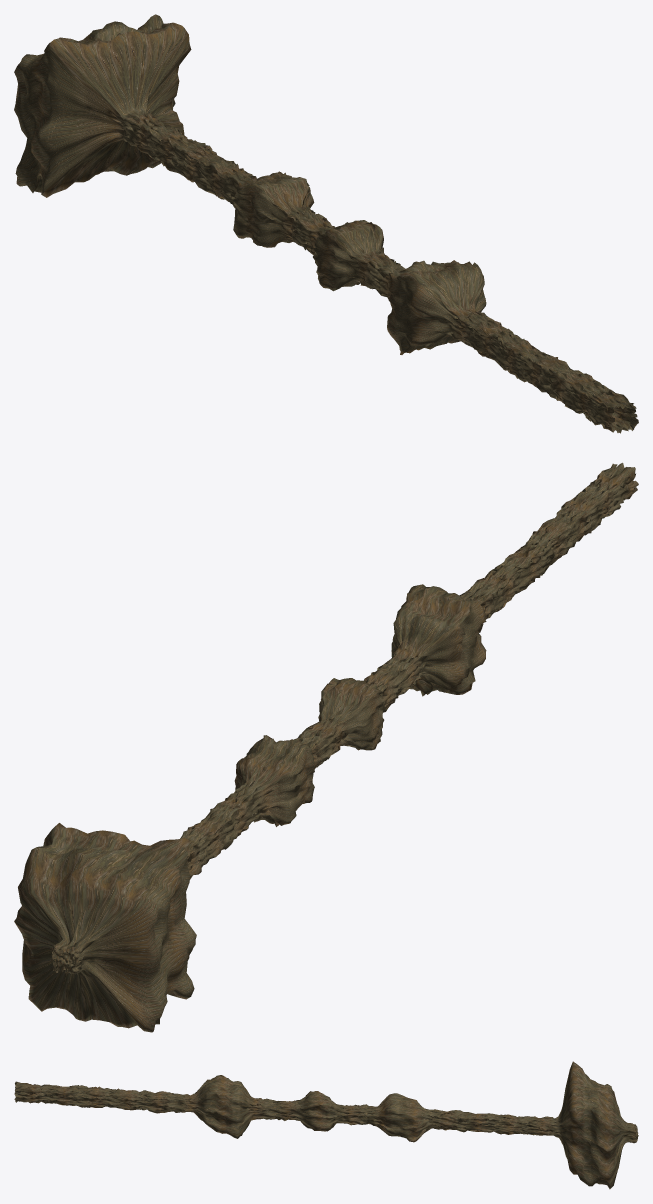
Rendered from cave.fbx.
The picture shows the model from 3 angles, top to bottom: view 1: azimuth 30°, elevation 25°; view 2: azimuth 150°, elevation 25°; view 3: azimuth 270°, elevation 25°; orthographic projection. The views are drawn at different scales.
Visible parts, largest first — view 1: Cube; view 2: Cube; view 3: Cube.
Boxes of the visible parts, bbox=[...] form: Cube: bbox=[14, 14, 638, 433]; Cube: bbox=[14, 462, 638, 1032]; Cube: bbox=[14, 1061, 638, 1189].
Bounding box in the file's own units: 17250 × 18883 × 108939.
